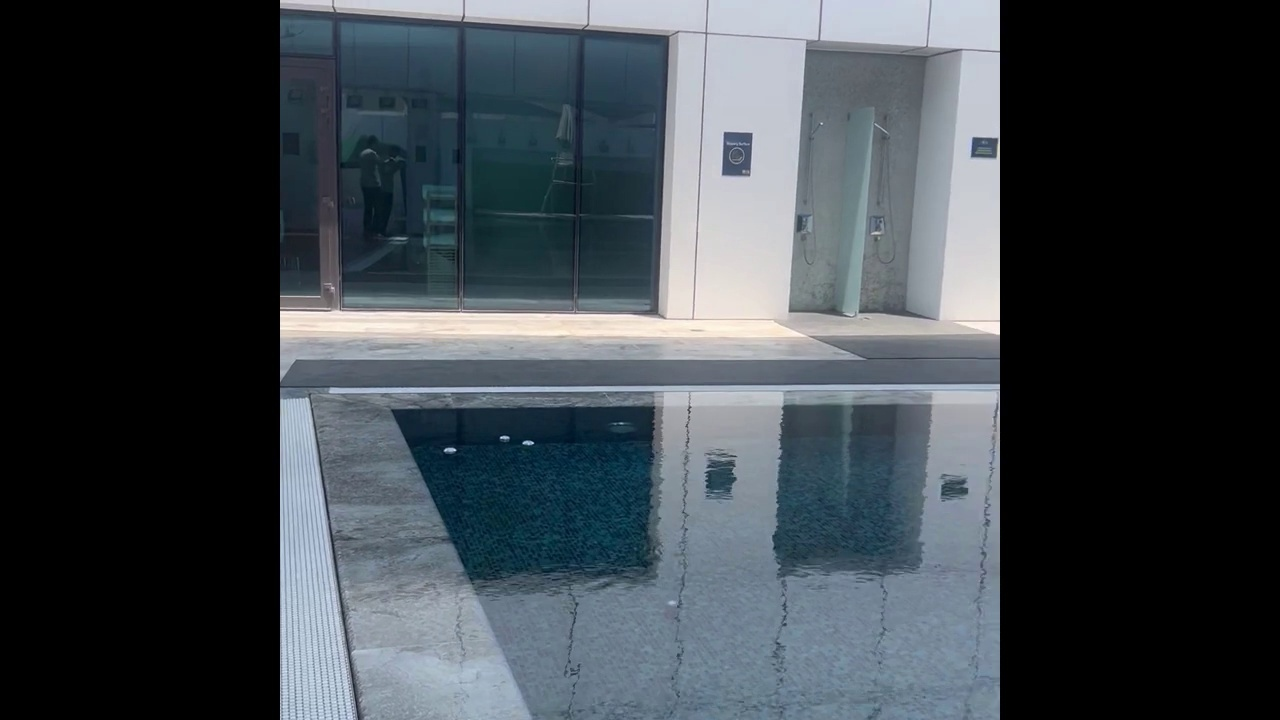debris: (659, 594, 683, 622), (441, 444, 462, 462), (516, 435, 536, 450), (498, 432, 510, 445)
